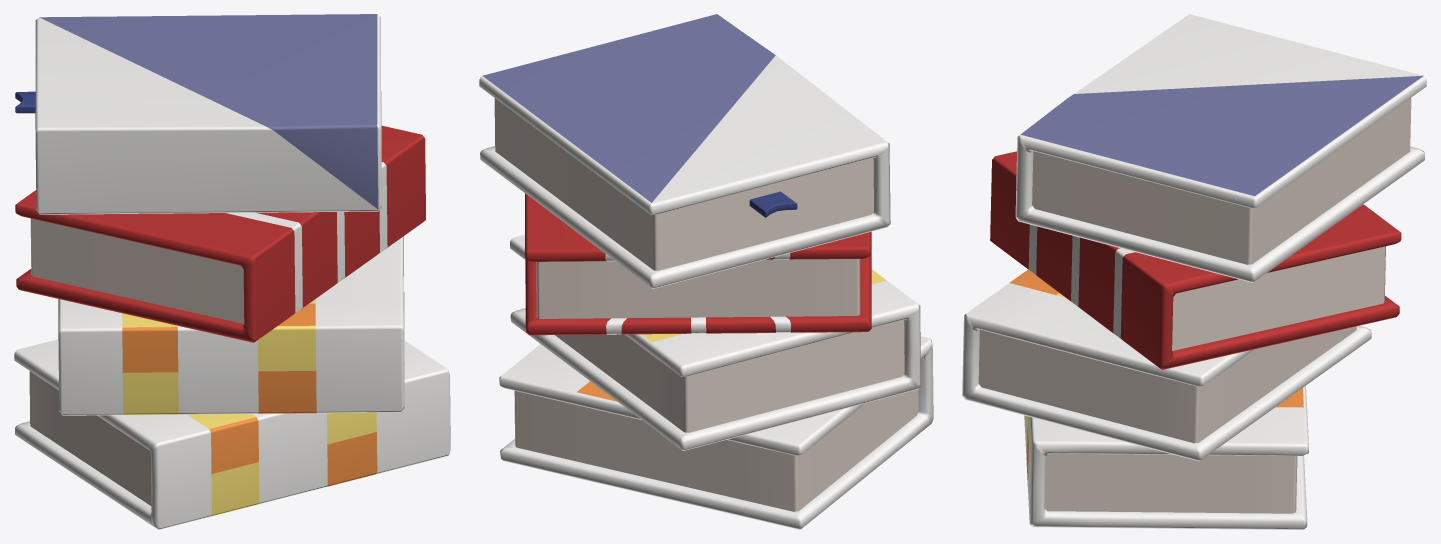
The model's file is Book_1.glb.
3 renders of one model, left to right at view 1: azimuth 30°, elevation 25°; view 2: azimuth 150°, elevation 25°; view 3: azimuth 270°, elevation 25°, orthographic.
Parts seen in each view (by area): view 1: Books_6; view 2: Books_6; view 3: Books_6.
Part boxes in pixels (x1,y1,x2,y2): Books_6: [14, 14, 450, 529]; Books_6: [479, 14, 933, 529]; Books_6: [962, 14, 1426, 529].
Bounding box in the file's own units: 0.3982 × 0.3608 × 0.4219.
1 material, 1 textured.
